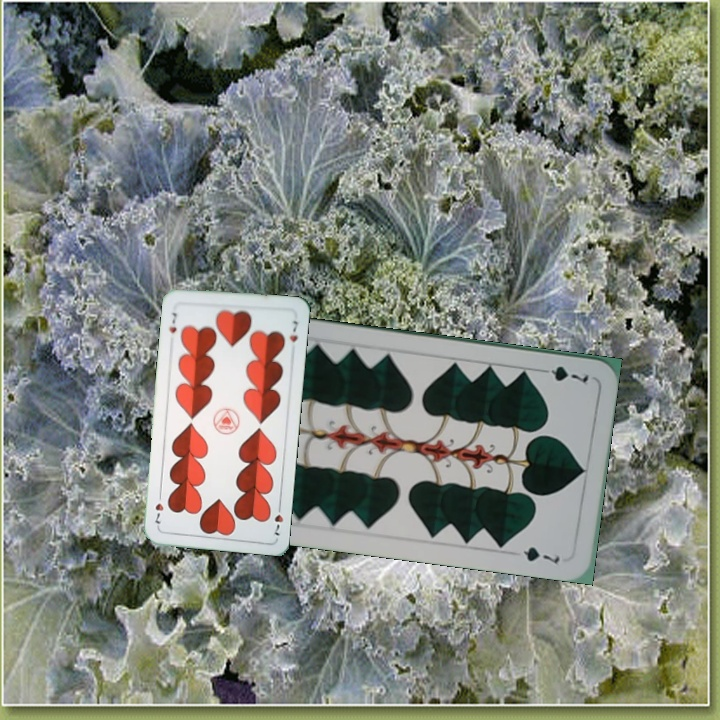G7: (534, 361, 591, 386)
H7: (270, 499, 286, 538), (165, 308, 180, 336)
